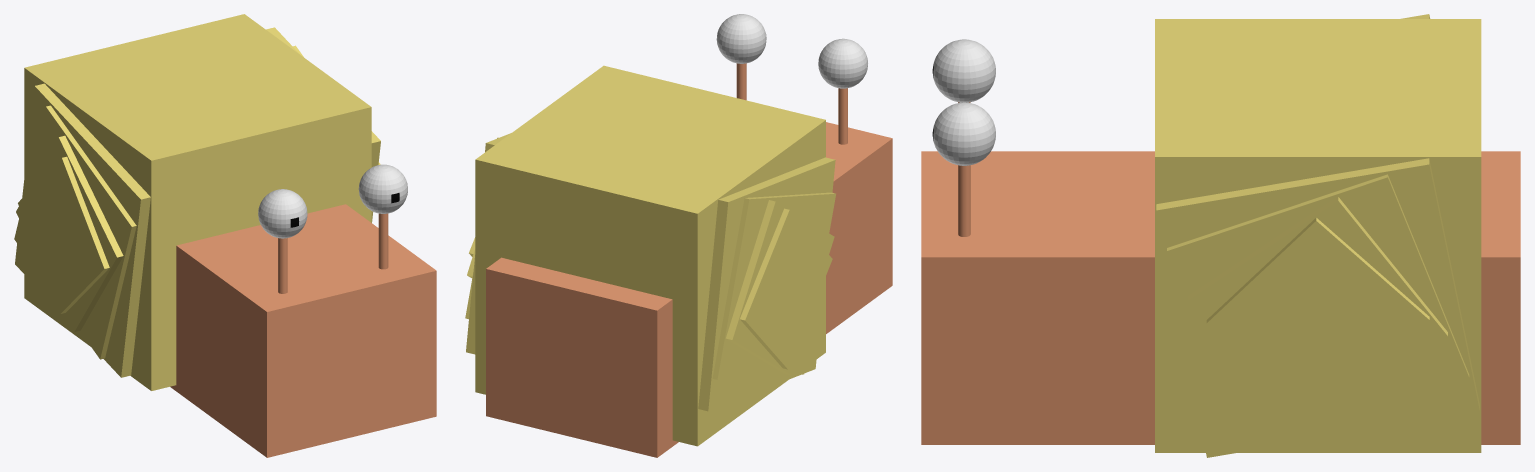
The model's file is Flail.fbx.
3 views of the same model, side by side, from view 1: azimuth 30°, elevation 25°; view 2: azimuth 150°, elevation 25°; view 3: azimuth 270°, elevation 25° (orthographic). The views are drawn at different scales.
Visible parts, largest first — view 1: Cube, Cube.005, Sphere.001, Sphere; view 2: Cube, Cube.005, Sphere, Sphere.001; view 3: Cube, Cube.005, Sphere.001, Sphere.
Part boxes in pixels (box(x1,y1,x2,y2)): Cube: box(14, 14, 380, 390); Cube.005: box(170, 204, 436, 457); Sphere.001: box(358, 164, 407, 269); Sphere: box(258, 189, 307, 293); Cube: box(465, 65, 835, 446); Cube.005: box(486, 122, 892, 457); Sphere: box(818, 38, 867, 144); Sphere.001: box(716, 14, 766, 100); Cube: box(1155, 14, 1481, 457); Cube.005: box(921, 151, 1520, 444); Sphere.001: box(932, 102, 995, 236); Sphere: box(932, 39, 995, 102).
Size of the model in its own units: 249 by 214 by 367.
